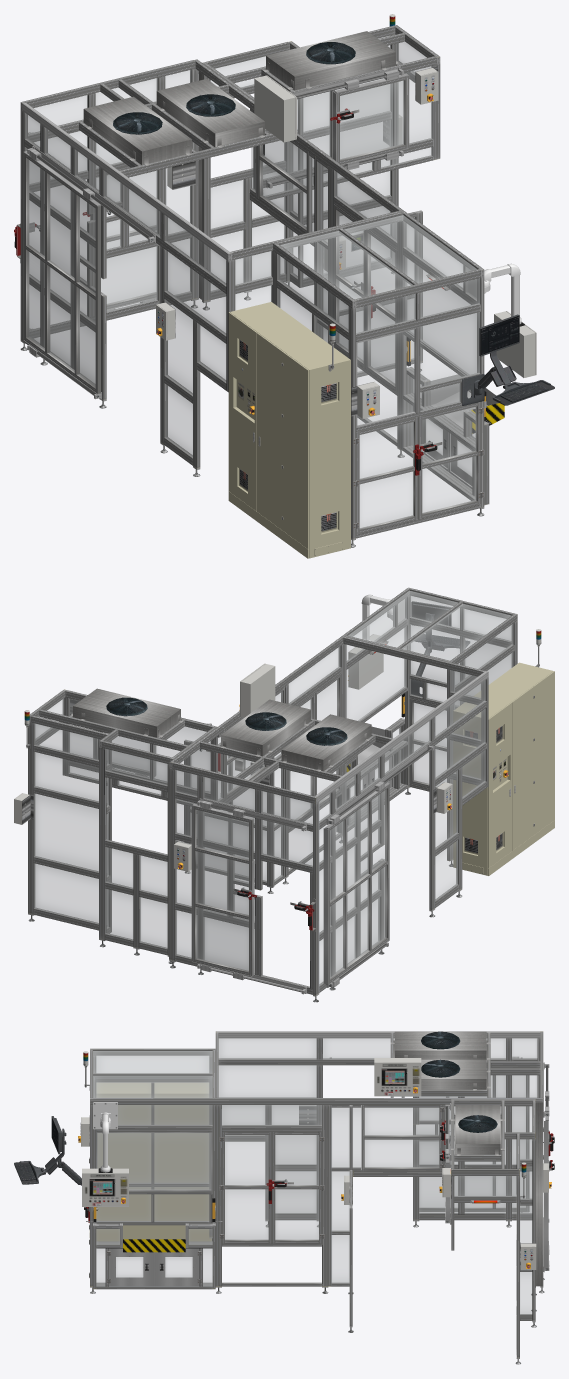
Rendered from FENCE_UNIT.glb.
3 views of the same model, one above another, from view 1: azimuth 30°, elevation 25°; view 2: azimuth 150°, elevation 25°; view 3: azimuth 270°, elevation 25° (orthographic). The views are drawn at different scales.
Visible parts, largest first — view 1: FENCE_UNIT, FENCE_UNIT_GLASS; view 2: FENCE_UNIT, FENCE_UNIT_GLASS; view 3: FENCE_UNIT, FENCE_UNIT_GLASS.
Part boxes in pixels (x1,y1,x2,y2): FENCE_UNIT: [14, 14, 554, 558]; FENCE_UNIT_GLASS: [26, 35, 480, 528]; FENCE_UNIT: [14, 587, 554, 1002]; FENCE_UNIT_GLASS: [34, 591, 513, 985]; FENCE_UNIT: [14, 1031, 554, 1364]; FENCE_UNIT_GLASS: [93, 1038, 536, 1314].
Size of the model in its own units: 4.46 by 3.21 by 6.91.
Materials: 2 (2 with a texture image).
